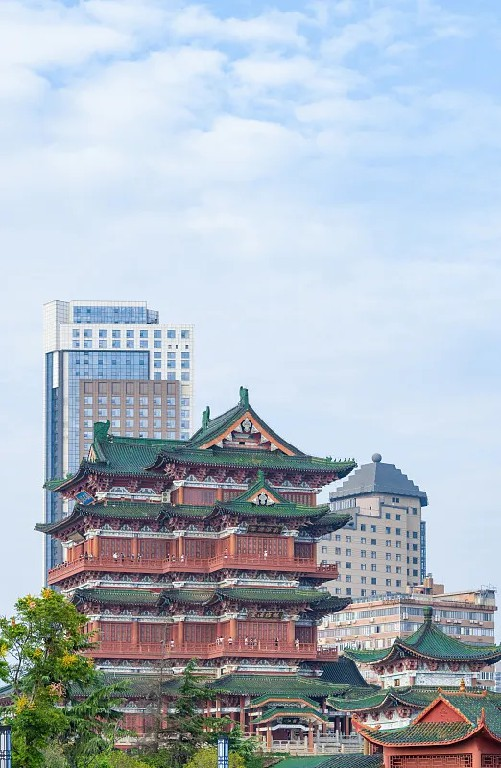Teng: (36, 386, 359, 736)
